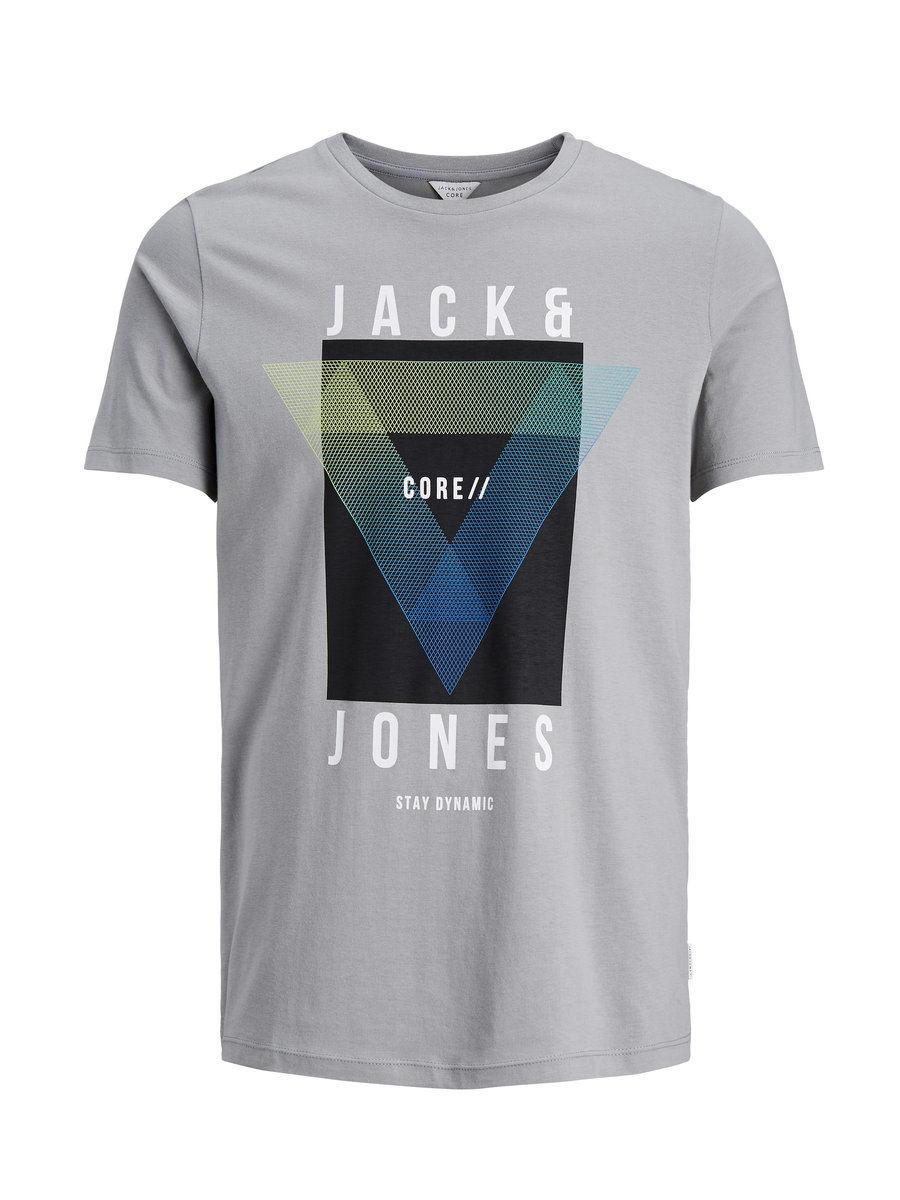teeshirt: (62, 122, 867, 1111)
